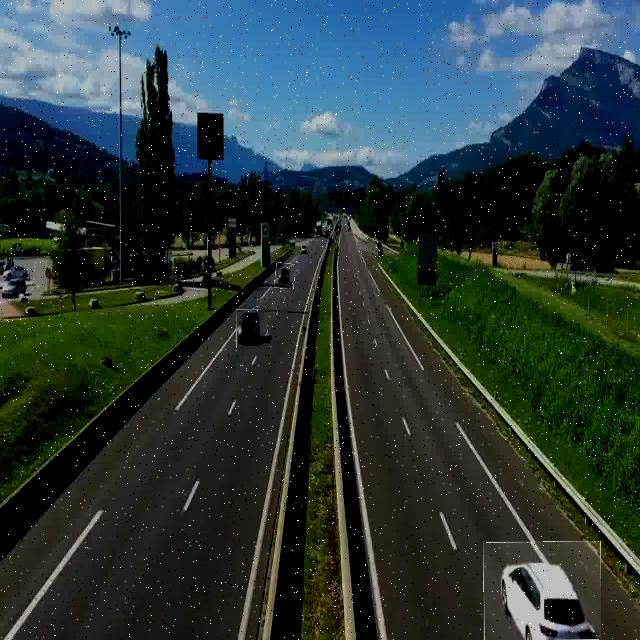Car: (483, 541, 601, 640), (236, 309, 261, 348), (274, 262, 294, 289)
